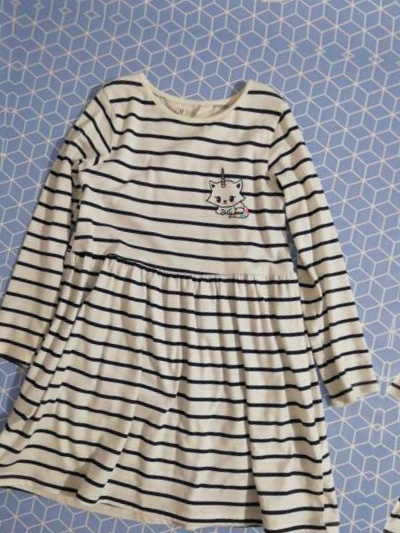Dress: (0, 53, 400, 533), (366, 118, 400, 533), (40, 0, 400, 19), (0, 0, 13, 496)
